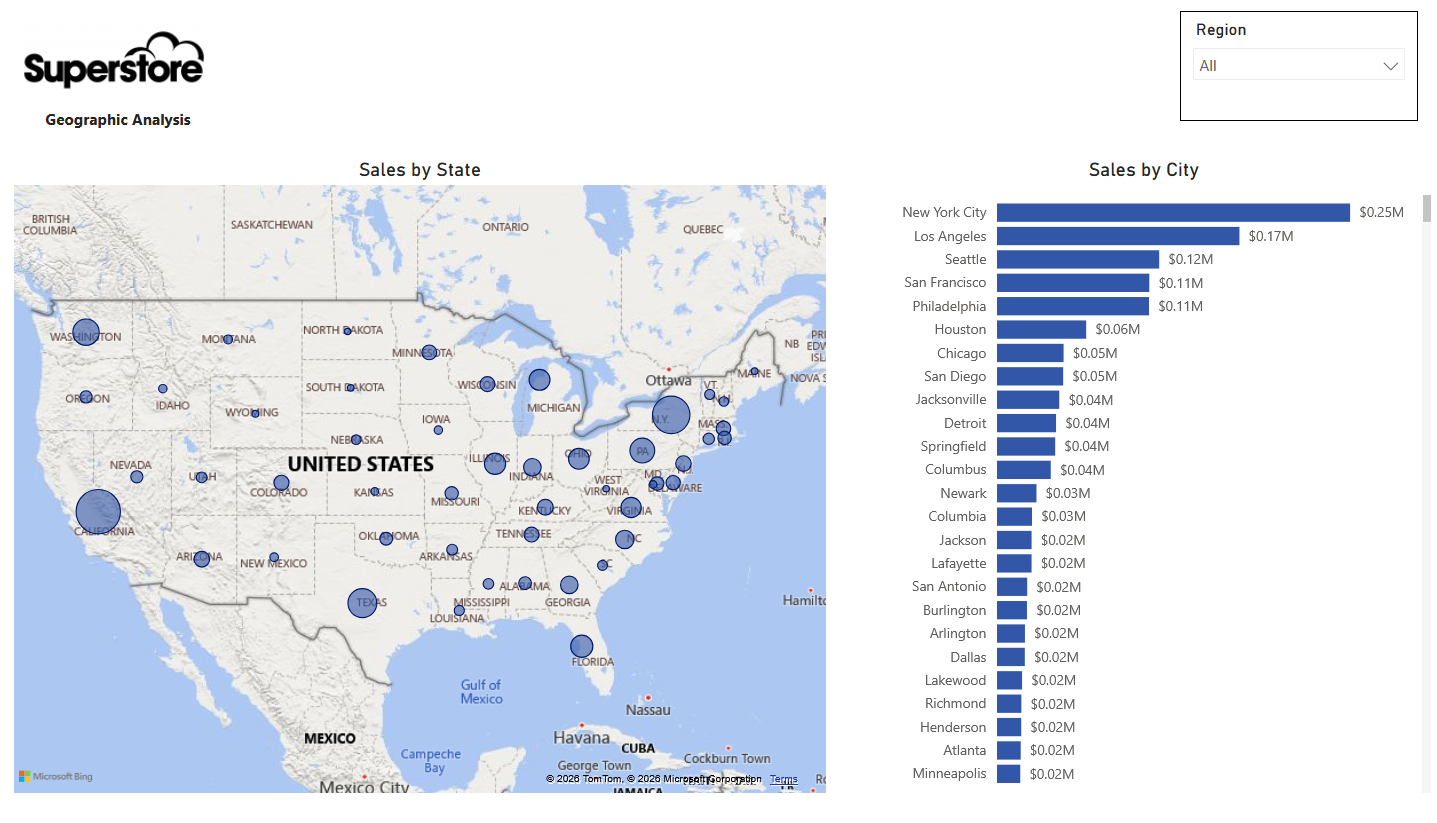

The dashboard page shown, as its layout file describes it:
{"tool":"powerbi","page":{"name":"Geographic Analysis","canvas":[1280,720],"ordinal":2},"visuals":[{"type":"image","box":[24,16,168,88],"z":0},{"type":"barChart","fields":{"Category":["Super Store Dataset.City"],"Y":["Sum(Super Store Dataset.Sales)"]},"box":[752,144,512,560],"z":1000},{"type":"slicer","title":"Filter by","fields":{"Values":["Super Store Dataset.Region"]},"box":[1040,16,208,96],"z":2000},{"type":"textbox","box":[16,96,192,32],"z":3000},{"type":"map","fields":{"Category":["Super Store Dataset.State"],"Size":["Sum(Super Store Dataset.Sales)"]},"box":[16,144,720,560],"z":4000}]}

Visuals, with their boxes in screenshot pixels (x1, y1, x2, y2), scaled from the page's 1280x720 canvas onto the 1437x823 screenshot:
image: 27 18 216 119
barChart - Super Store Dataset.City x Sum(Super Store Dataset.Sales): 844 165 1419 805
"Filter by" slicer: 1168 18 1401 128
textbox: 18 110 234 146
map - Super Store Dataset.State x Sum(Super Store Dataset.Sales): 18 165 826 805
